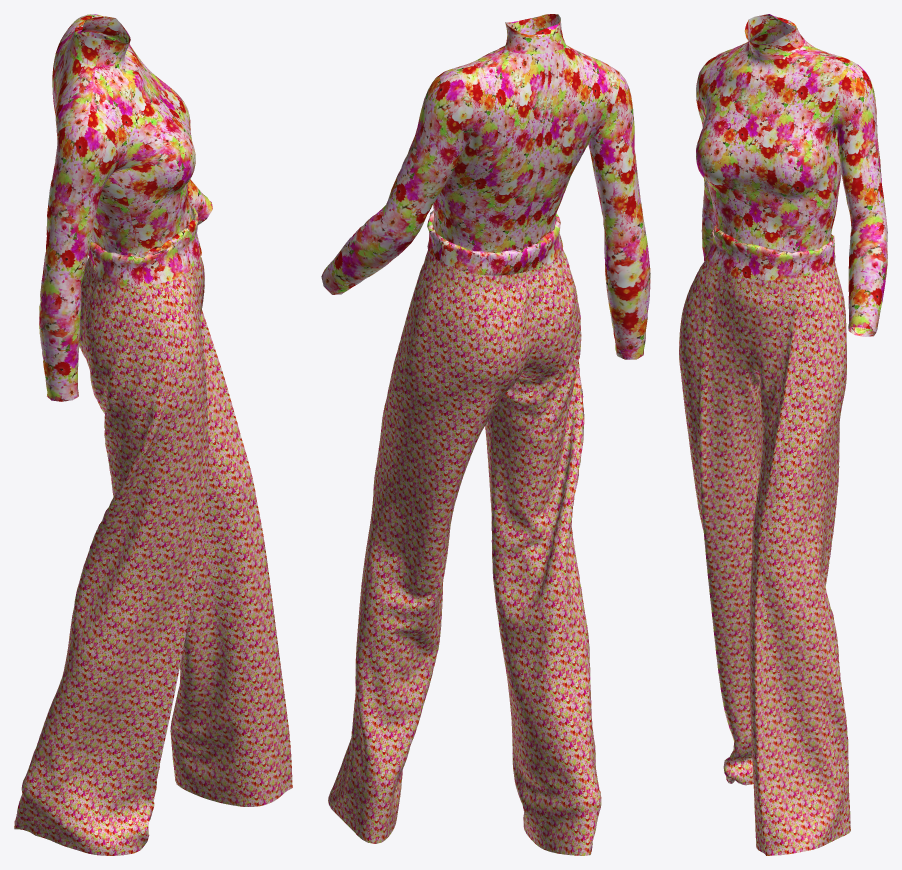
File: DA_HighNeck+WidePants_0000147.obj
3 views of the same model, side by side, from view 1: azimuth 30°, elevation 25°; view 2: azimuth 150°, elevation 25°; view 3: azimuth 270°, elevation 25° (orthographic). The views are drawn at different scales.
Bounding box in the file's own units: 0.5787 × 1.62 × 0.4076.
